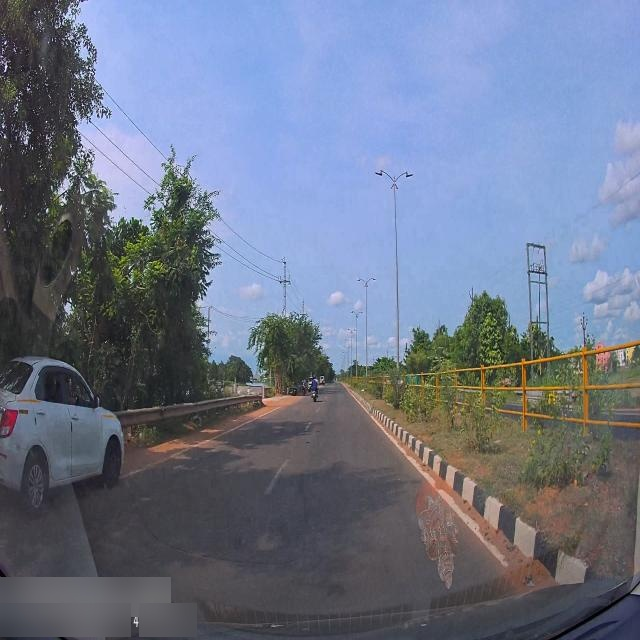pothole: (243, 522, 293, 558)
